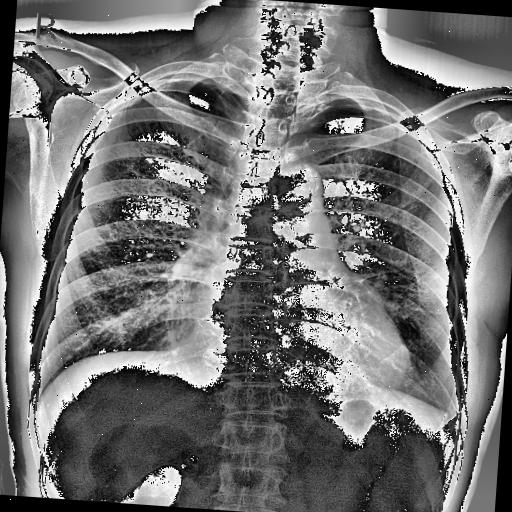0- Aortic enlargement: (268, 156, 326, 220), (274, 162, 325, 214), (264, 162, 324, 204)
11- Pleural thickening: (310, 90, 434, 148), (120, 72, 250, 118), (132, 62, 234, 108), (319, 88, 423, 131), (434, 403, 462, 437)
3- Cardiomegaly: (190, 276, 416, 388), (180, 298, 414, 403), (186, 304, 417, 392)
